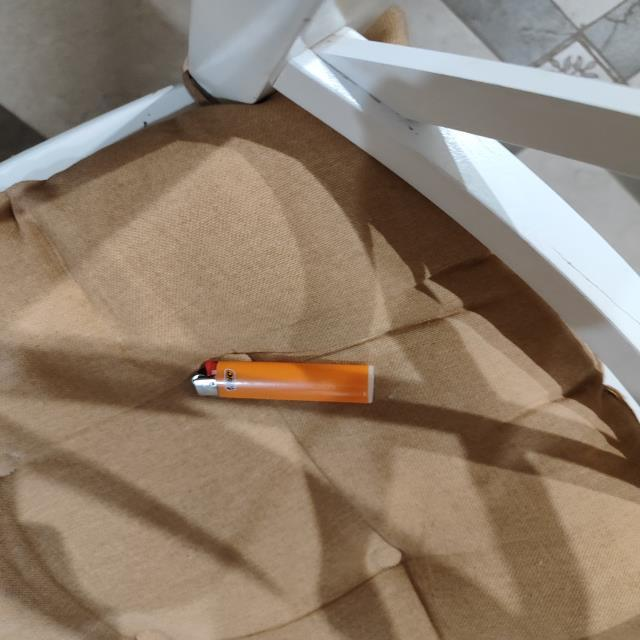lighter: (192, 356, 374, 403)
